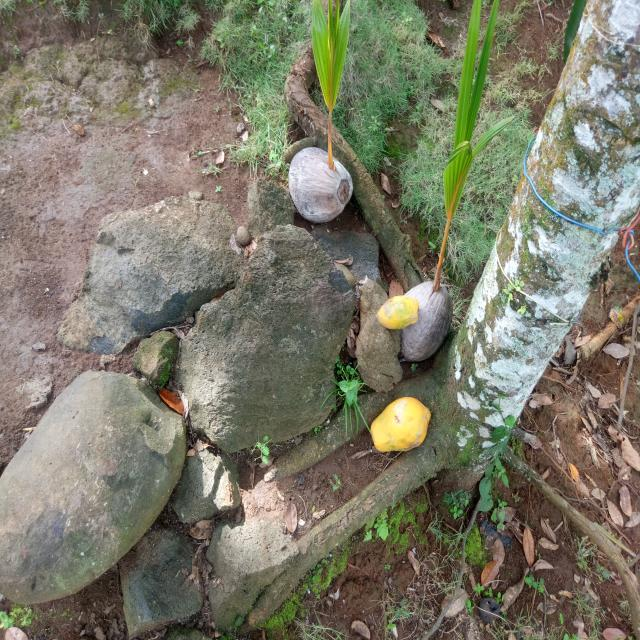Pepaya rippen: (362, 394, 434, 454), (372, 280, 416, 336)
